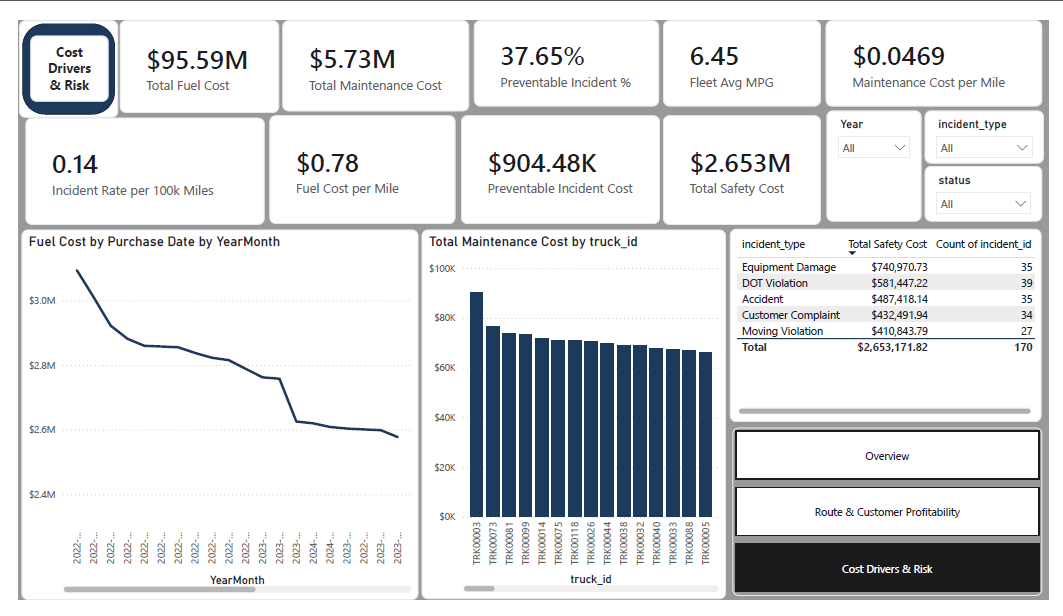

The page's visual inventory and layout, read from the dashboard file:
{"tool":"powerbi","page":{"name":"Cost Drivers & Risk","canvas":[1280,720],"ordinal":2},"visuals":[{"type":"cardVisual","fields":{"Data":["_Measures.Total Fuel Cost"]},"box":[126.5,0,197.1,114.7],"z":0},{"type":"cardVisual","fields":{"Data":["_Measures.Maintenance Cost per Mile"]},"box":[1002.9,0,269.1,107.4],"z":1000},{"type":"cardVisual","fields":{"Data":["_Measures.Fleet Avg MPG"]},"box":[801.5,0,195.6,107.4],"z":2000},{"type":"cardVisual","fields":{"Data":["_Measures.Total Maintenance Cost"]},"box":[327.9,0,232.4,113.2],"z":3000},{"type":"cardVisual","fields":{"Data":["_Measures.Fuel Cost per Mile"]},"box":[311.8,117.6,230.9,135.3],"z":4000},{"type":"lineChart","fields":{"Category":["Date.YearMonth"],"Y":["_Measures.Fuel Cost by Purchase Date"]},"box":[4.4,259.7,492.6,460.3],"z":5000},{"type":"lineStackedColumnComboChart","fields":{"Category":["trucks.truck_id"],"Y":["_Measures.Total Maintenance Cost"]},"box":[501.5,260.3,377.9,458.8],"z":6000},{"type":"cardVisual","fields":{"Data":["_Measures.Preventable Incident Cost"]},"box":[550,117.6,247.1,135.3],"z":7000},{"type":"cardVisual","fields":{"Data":["_Measures.Total Safety Cost"]},"box":[801.5,117.6,195.6,136.8],"z":8000},{"type":"cardVisual","fields":{"Data":["_Measures.Preventable Incident %"]},"box":[566.2,0,229.4,107.4],"z":9000},{"type":"cardVisual","fields":{"Data":["_Measures.Incident Rate per 100k Miles"]},"box":[8.8,120.6,297.1,133.8],"z":10000},{"type":"tableEx","fields":{"Values":["safety_incidents.incident_type","_Measures.Total Safety Cost","CountNonNull(safety_incidents.incident_id)"]},"box":[883.8,258.8,386.8,239.7],"z":11000},{"type":"slicer","fields":{"Values":["safety_incidents.incident_type"]},"box":[1126.5,111.8,147.1,66.2],"z":12000},{"type":"slicer","fields":{"Values":["Date.Year"]},"box":[1004.4,111.8,117.6,138.2],"z":13000},{"type":"slicer","fields":{"Values":["trucks.status"]},"box":[1126.5,180.9,145.6,69.1],"z":14000},{"type":"pageNavigator","box":[886.8,505.9,385.3,208.8],"z":15000},{"type":"shape","box":[1.5,0,122.1,120.6],"z":16000},{"type":"textbox","box":[14.7,19.1,97.1,82.4],"z":17000}]}

Visuals, with their boxes in screenshot pixels (x1, y1, x2, y2), scaled from the page's 1280x720 canvas onto the 1063x616 screenshot:
cardVisual - _Measures.Total Fuel Cost: region(105, 0, 269, 98)
cardVisual - _Measures.Maintenance Cost per Mile: region(833, 0, 1056, 92)
cardVisual - _Measures.Fleet Avg MPG: region(666, 0, 828, 92)
cardVisual - _Measures.Total Maintenance Cost: region(272, 0, 465, 97)
cardVisual - _Measures.Fuel Cost per Mile: region(259, 101, 451, 216)
lineChart - Date.YearMonth x _Measures.Fuel Cost by Purchase Date: region(4, 222, 413, 615)
lineStackedColumnComboChart - trucks.truck_id x _Measures.Total Maintenance Cost: region(416, 223, 730, 615)
cardVisual - _Measures.Preventable Incident Cost: region(457, 101, 662, 216)
cardVisual - _Measures.Total Safety Cost: region(666, 101, 828, 218)
cardVisual - _Measures.Preventable Incident %: region(470, 0, 661, 92)
cardVisual - _Measures.Incident Rate per 100k Miles: region(7, 103, 254, 218)
tableEx - safety_incidents.incident_type x _Measures.Total Safety Cost: region(734, 221, 1055, 426)
slicer - safety_incidents.incident_type: region(936, 96, 1058, 152)
slicer - Date.Year: region(834, 96, 932, 214)
slicer - trucks.status: region(936, 155, 1056, 214)
pageNavigator: region(736, 433, 1056, 611)
shape: region(1, 0, 103, 103)
textbox: region(12, 16, 93, 87)
